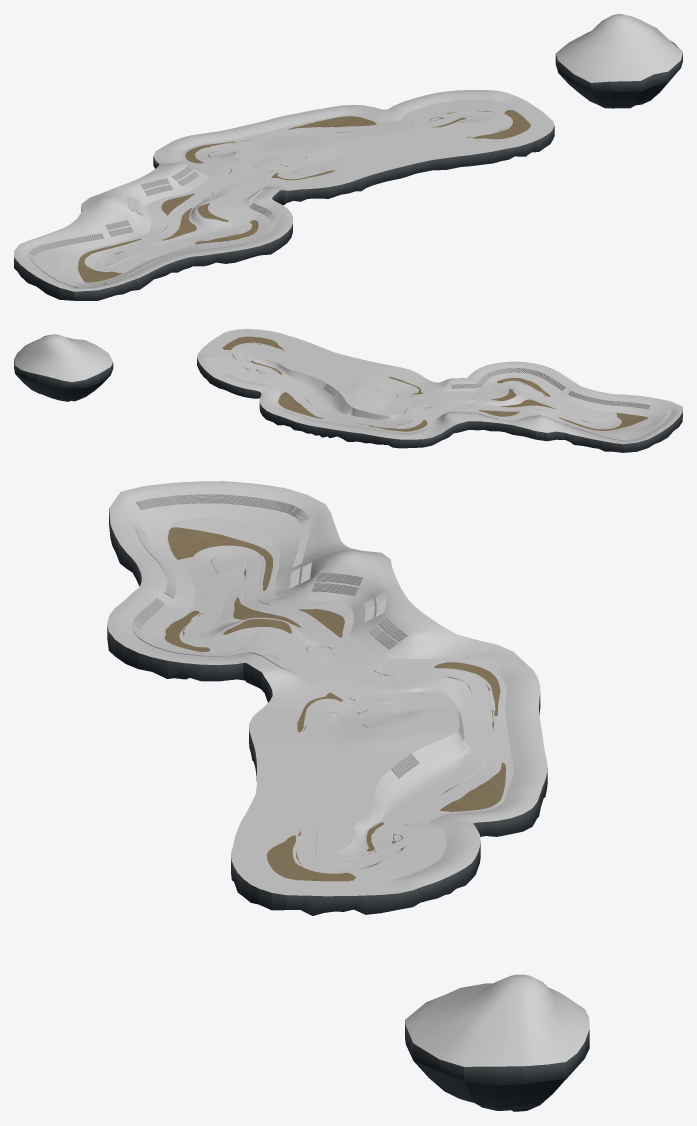
Rendered from nurburg_base.FBX.
3 renders of one model, top to bottom at view 1: azimuth 30°, elevation 25°; view 2: azimuth 150°, elevation 25°; view 3: azimuth 270°, elevation 25°, orthographic. The views are drawn at different scales.
Parts seen in each view (by area): view 1: outer_grass, nurburg_bottom, grass_runoff, nurburg_tarmac, grass_runoff_striped, gravel_traps, tarmac_dirty, nurburg_seats, pavement, curbs, astroturf, tarmac_pitlane; view 2: outer_grass, grass_runoff, nurburg_bottom, nurburg_tarmac, grass_runoff_striped, gravel_traps, tarmac_dirty, nurburg_seats, pavement, curbs, astroturf, tarmac_pitlane (+1 smaller); view 3: outer_grass, grass_runoff, nurburg_tarmac, nurburg_bottom, grass_runoff_striped, gravel_traps, tarmac_dirty, nurburg_seats, pavement, curbs, tarmac_pitlane, astroturf.
Part boxes in pixels (x1,y1,x2,y2): outer_grass: (14,14,682,291); nurburg_bottom: (14,41,682,300); grass_runoff: (58,110,532,282); nurburg_tarmac: (86,112,509,271); grass_runoff_striped: (88,100,514,273); gravel_traps: (78,110,530,282); tarmac_dirty: (217,122,485,178); nurburg_seats: (28,136,354,288); pavement: (85,111,509,271); curbs: (91,112,507,267); astroturf: (91,117,497,254); tarmac_pitlane: (332,116,497,164); outer_grass: (14,329,682,444); grass_runoff: (222,336,652,432); nurburg_bottom: (14,358,682,452); nurburg_tarmac: (233,344,620,428); grass_runoff_striped: (214,347,616,431); gravel_traps: (222,336,647,431); tarmac_dirty: (255,350,430,417); nurburg_seats: (323,367,671,440); pavement: (232,343,621,429); curbs: (233,343,612,428); astroturf: (251,344,598,429); tarmac_pitlane: (242,348,379,379); outer_grass: (107,481,589,1066); grass_runoff: (162,518,513,881); nurburg_tarmac: (184,547,497,871); nurburg_bottom: (107,509,589,1111); grass_runoff_striped: (176,556,501,881); gravel_traps: (164,527,505,881); tarmac_dirty: (307,676,459,853); nurburg_seats: (132,494,419,778); pavement: (183,546,499,871); curbs: (184,555,491,871); tarmac_pitlane: (317,735,369,863); astroturf: (183,556,493,855).
Size of the model in its own units: 46546 by 4970 by 16879.
